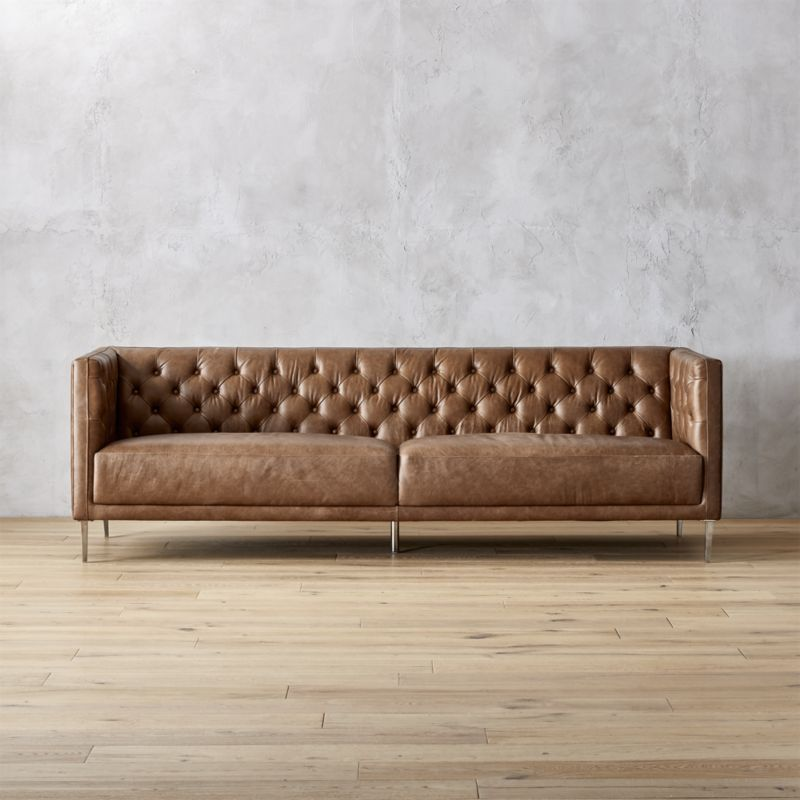chairs: (60, 335, 738, 570)
